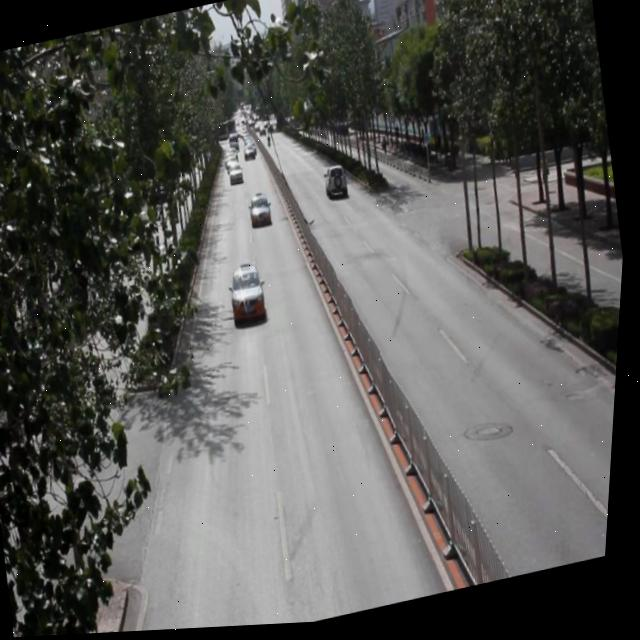car: (228, 262, 271, 329), (322, 165, 350, 202), (248, 193, 275, 231)
